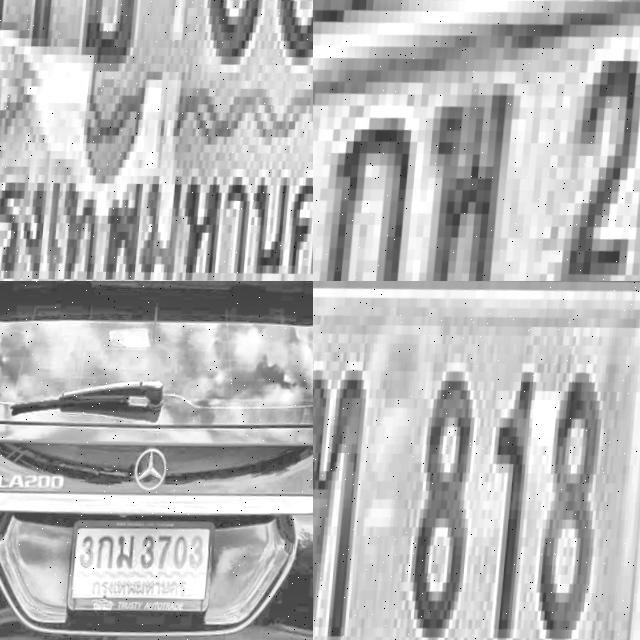license-plate: (313, 281, 640, 640), (313, 0, 640, 281), (0, 0, 313, 281), (66, 513, 215, 627)
